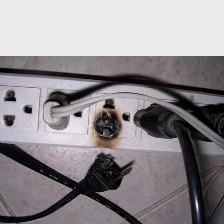three_eye_plug: (0, 62, 224, 162)
